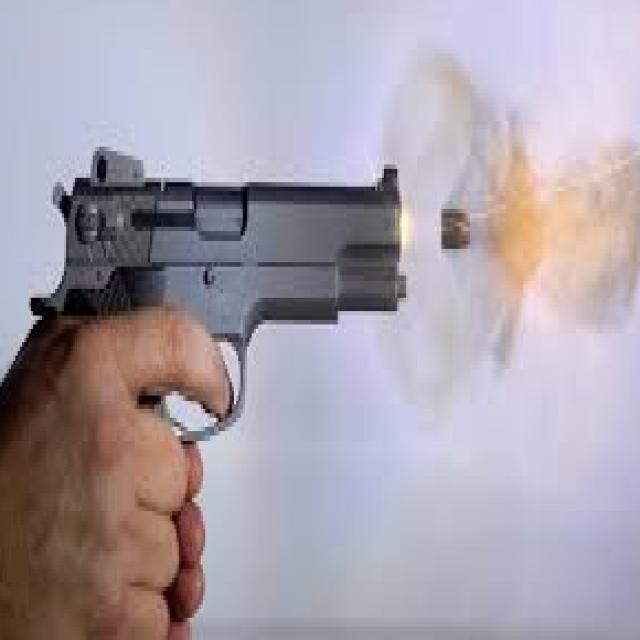gun: (25, 100, 414, 536)
